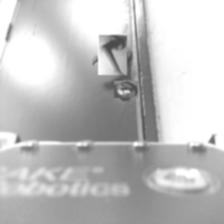Door Handle: (95, 37, 130, 72)
Lock: (116, 78, 136, 100)
